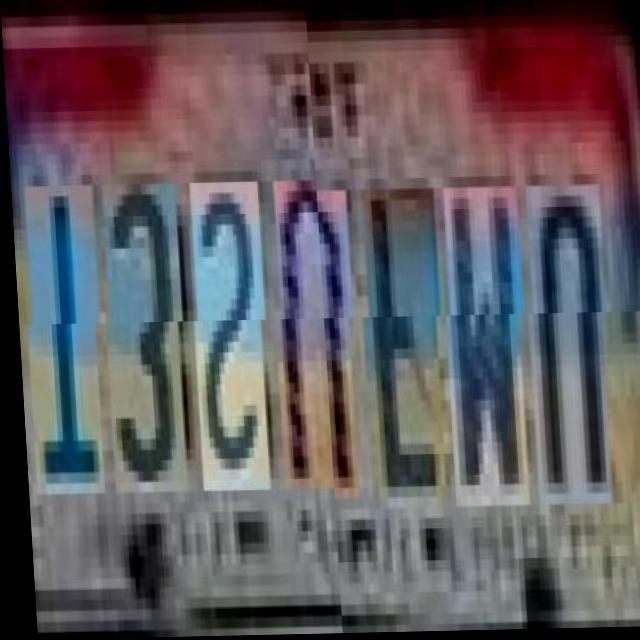3: (99, 184, 186, 493)
f: (357, 179, 446, 499)
m: (440, 178, 529, 498)
s: (186, 183, 270, 492)
t: (21, 186, 105, 495)
u: (522, 176, 611, 496), (270, 181, 357, 490)
